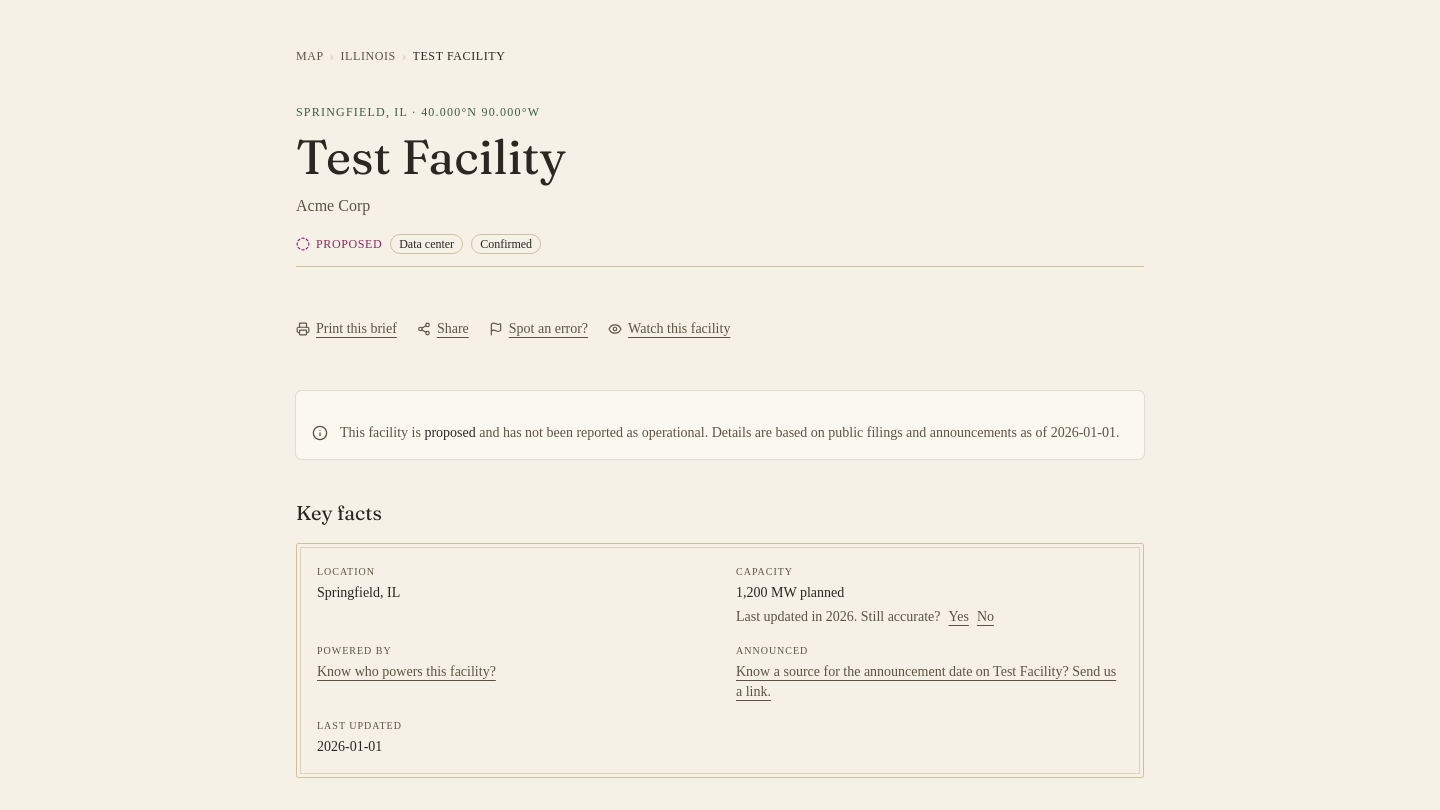
Test case: FacilityPage — correction dialogs › 'No' on a planned-only capacity corrects planned capacity, and shows its current value
The width and height of the screenshot is (1440, 810).
expect the text "1,200 MW planned" is shown: met, box [736,585,844,600]
Click the button with aria-label "No, the capacity needs a correction" at coordinates (985, 617), box [977,607,994,627]
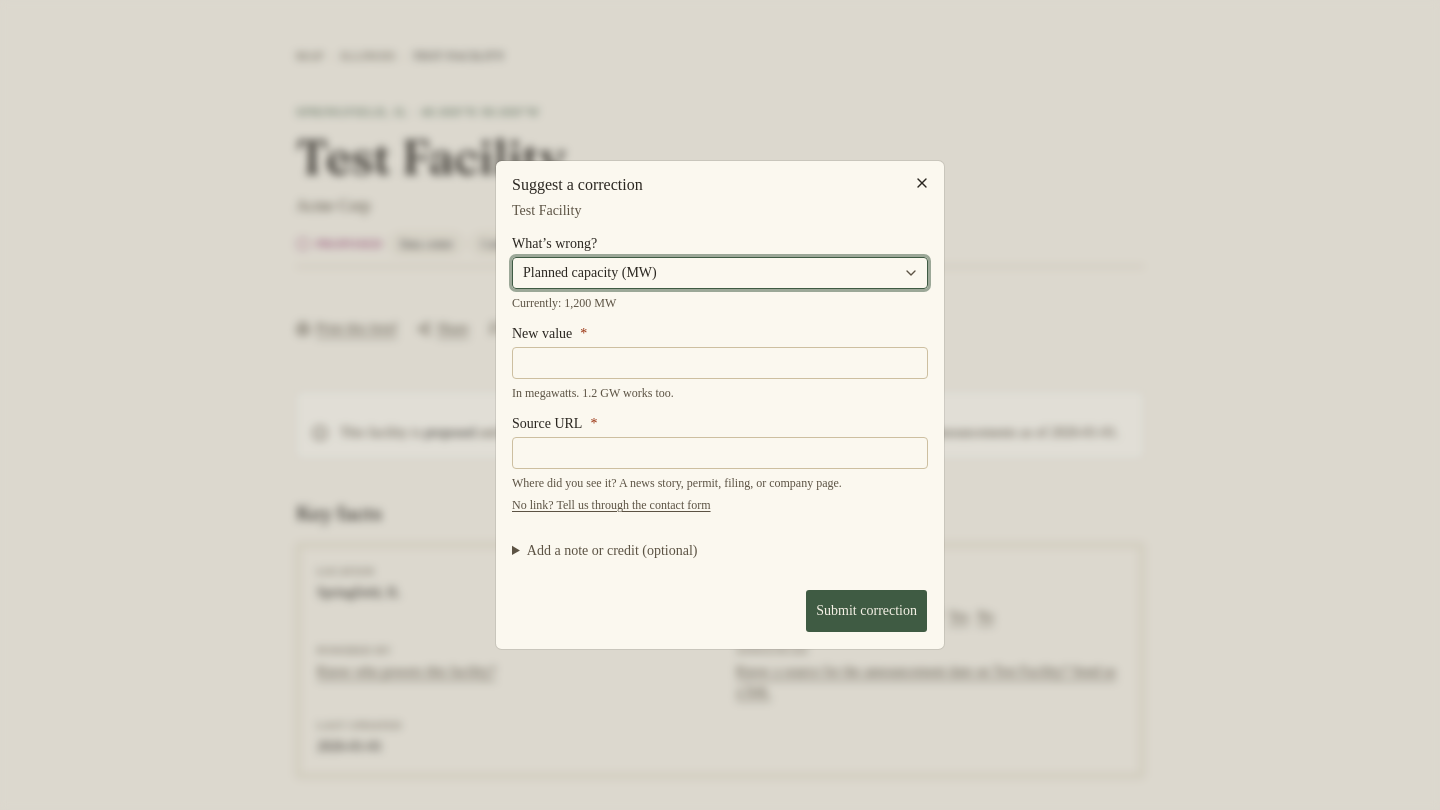
expect the dropdown named "what.s wrong" shows "Planned capacity (MW)": met, box [512,257,928,289]
expect the text "Currently: 1,200 MW" is shown: met, box [512,296,616,310]
